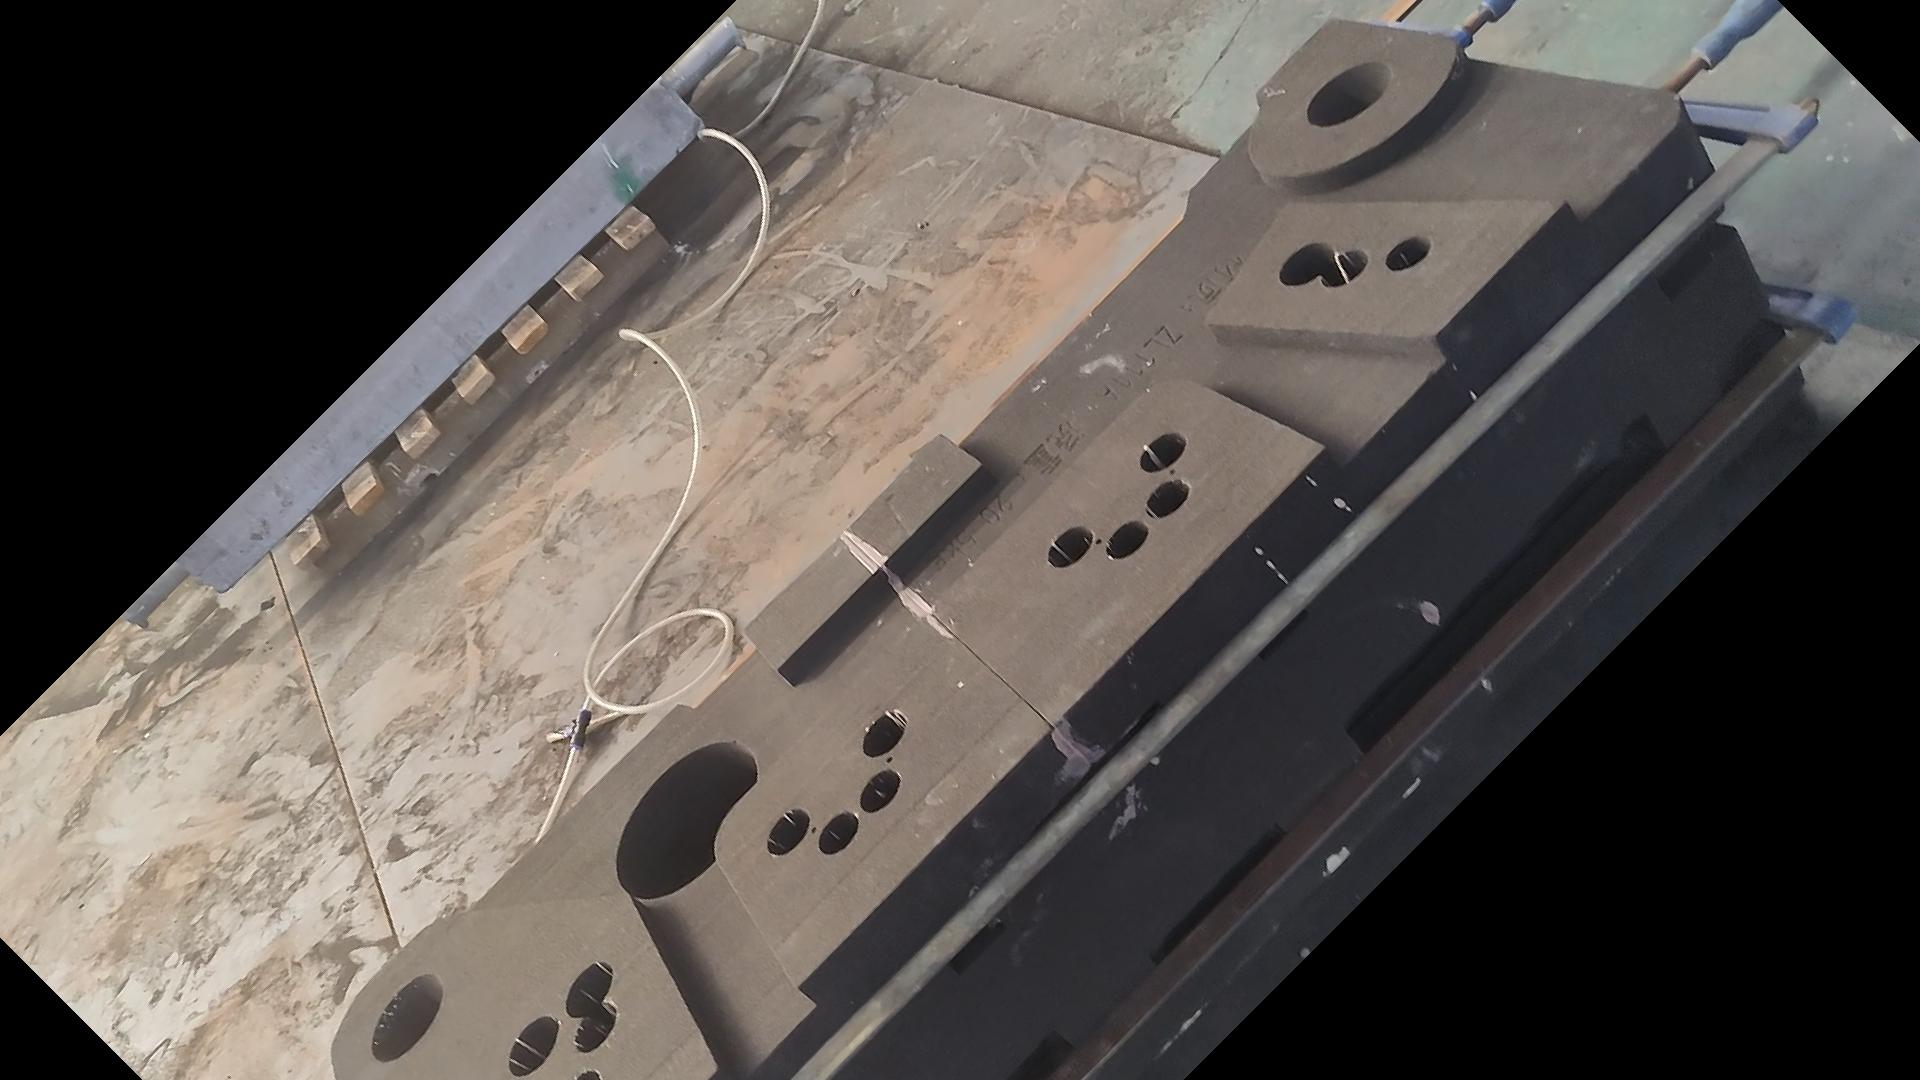pouring hole: (371, 975, 444, 1062), (1307, 61, 1393, 128)
